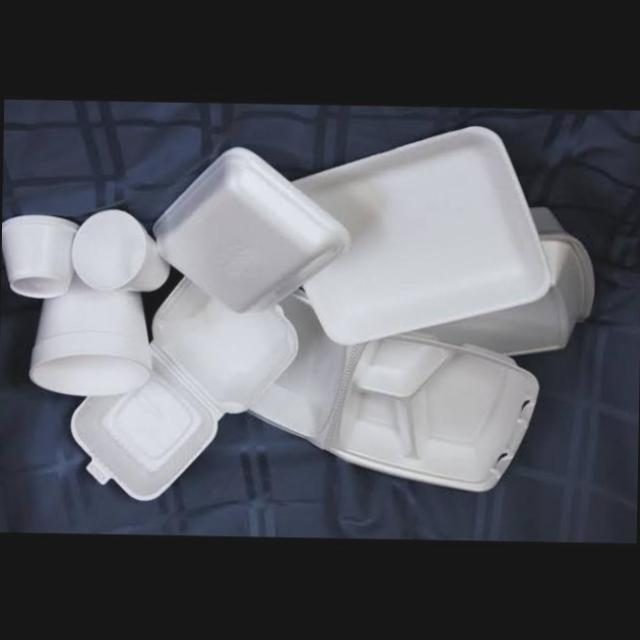xop: (247, 285, 540, 491), (291, 123, 553, 343), (70, 275, 298, 500), (151, 144, 353, 312), (400, 205, 595, 355), (28, 275, 153, 395), (71, 207, 170, 291), (1, 213, 78, 297)
